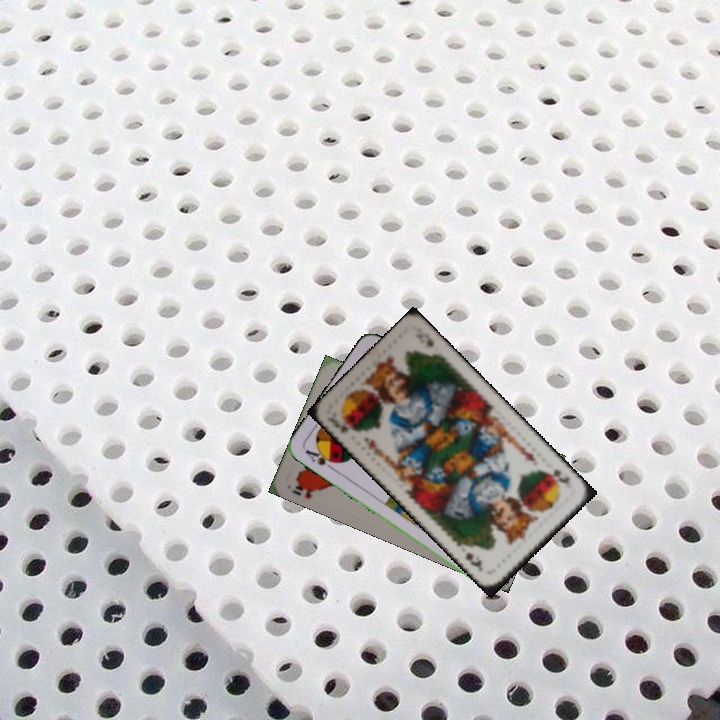HO: (287, 477, 319, 502)
SA: (301, 445, 340, 473)
SK: (542, 464, 573, 491), (332, 419, 360, 436)
